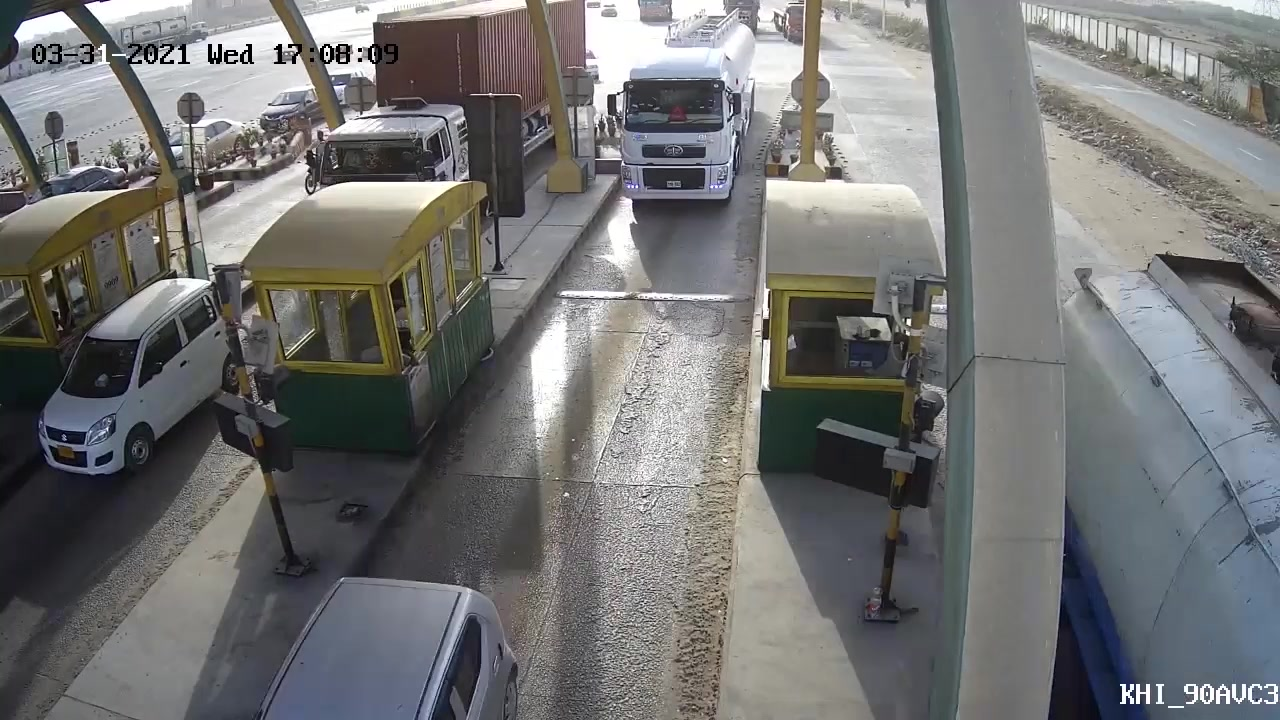F6: (612, 7, 767, 214)
